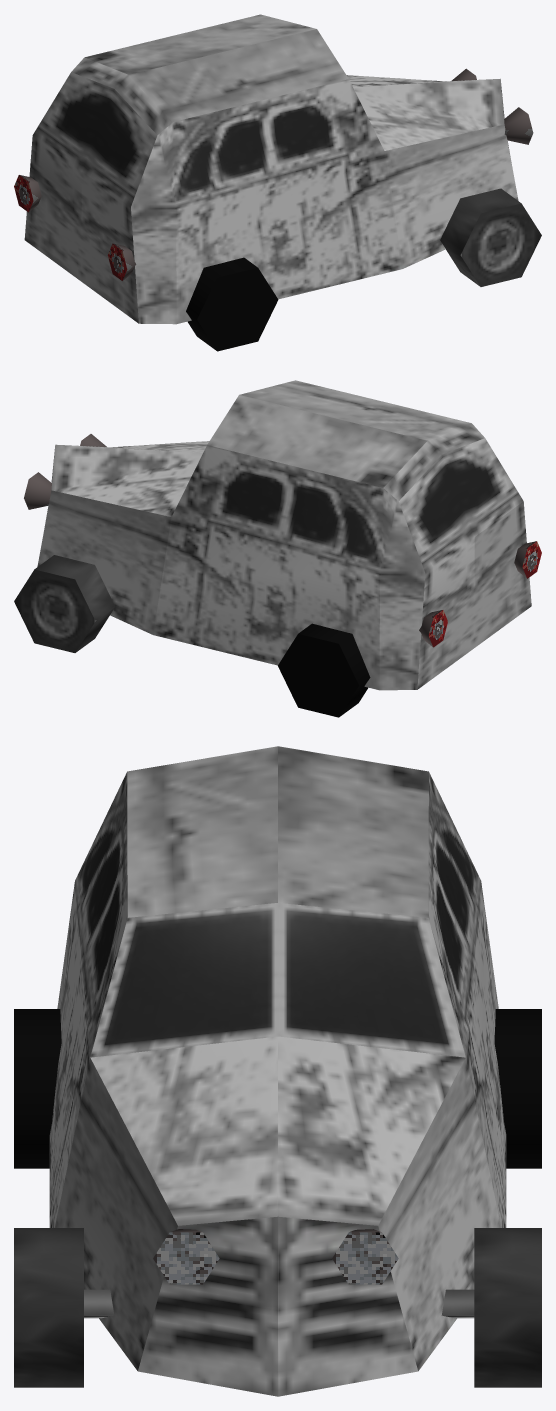
Rendered from car_junker.glb.
3 renders of one model, top to bottom at view 1: azimuth 30°, elevation 25°; view 2: azimuth 150°, elevation 25°; view 3: azimuth 270°, elevation 25°, orthographic. The views are drawn at different scales.
Visible parts, largest first — view 1: chassis_hi, wheels_front, wheels_back; view 2: chassis_hi, wheels_front, wheels_back; view 3: chassis_hi, wheels_front, wheels_back.
Part boxes in pixels (left/top/right/bottom): chassis_hi: left=14, top=14, right=533, bottom=324; wheels_front: left=440, top=188, right=541, bottom=286; wheels_back: left=186, top=257, right=278, bottom=351; chassis_hi: left=24, top=380, right=541, bottom=690; wheels_front: left=14, top=555, right=115, bottom=652; wheels_back: left=278, top=623, right=370, bottom=717; chassis_hi: left=49, top=746, right=506, bottom=1396; wheels_front: left=14, top=1228, right=541, bottom=1387; wheels_back: left=14, top=1009, right=541, bottom=1168.
Size of the model in its own units: 0.0112 by 0.00543 by 0.00686.
Materials: 5 (4 with a texture image).
